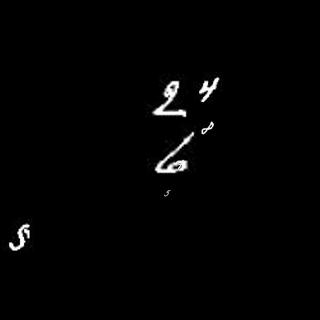eight: (201, 119, 215, 134)
five: (9, 222, 31, 253), (164, 187, 173, 198)
four: (197, 76, 222, 105)
six: (155, 128, 195, 176)
two: (152, 81, 190, 120)
